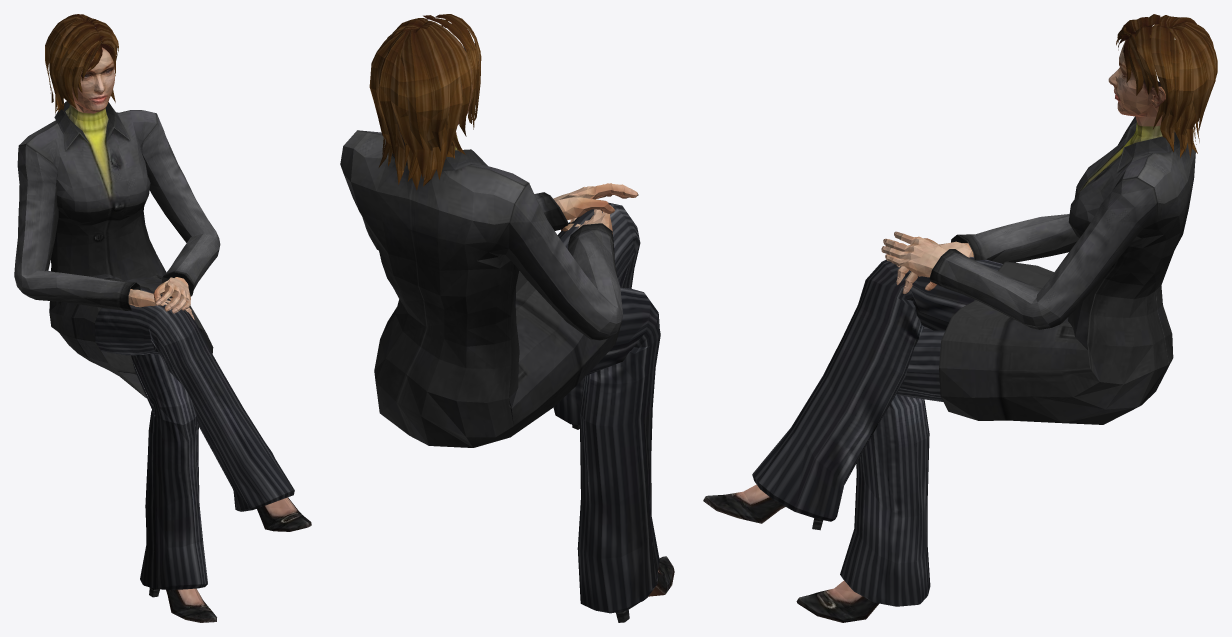
The model's file is sweethome3d-reallusion-sitting-female-16.glb.
3 views of the same model, side by side, from view 1: azimuth 30°, elevation 25°; view 2: azimuth 150°, elevation 25°; view 3: azimuth 270°, elevation 25° (orthographic). The views are drawn at different scales.
Parts seen in each view (by area): view 1: Object01; view 2: Object01; view 3: Object01.
Part boxes in pixels (x1,y1,x2,y2): Object01: (14,14,311,622); Object01: (340,14,674,622); Object01: (703,14,1217,622).
Size of the model in its own units: 49.44 by 127 by 97.18.
3 materials, 3 textured.
